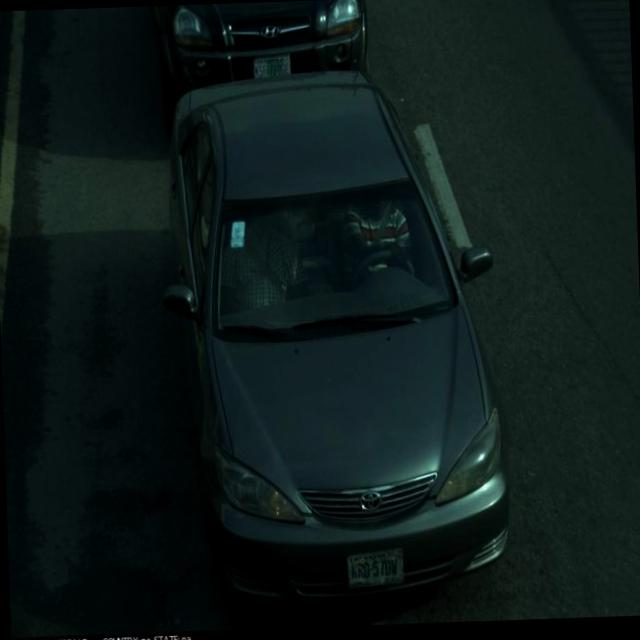person_with_seatbelt: (334, 202, 420, 288)
